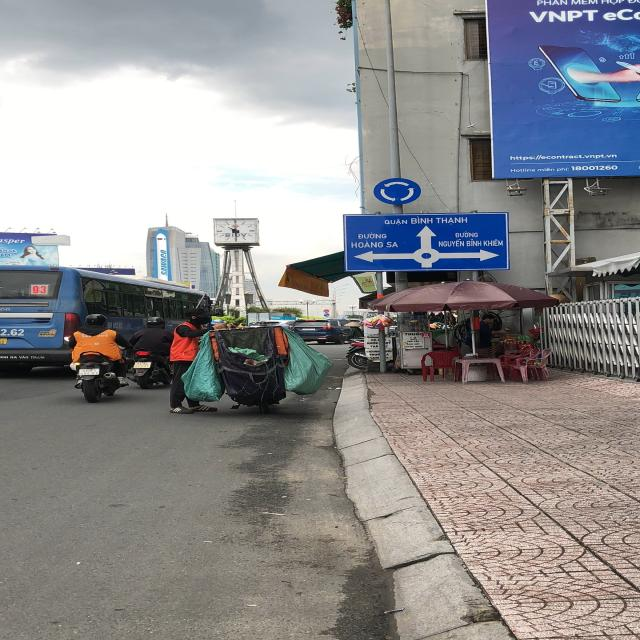Bien bao noi giao nhau chay theo vong xuyen: (370, 175, 426, 206)
